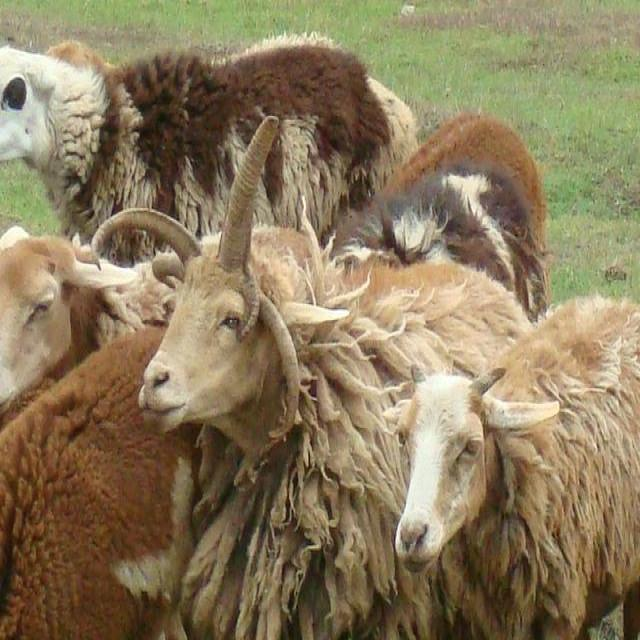Sheep: (92, 114, 534, 634), (385, 294, 639, 634), (0, 39, 427, 240), (0, 322, 200, 638), (324, 108, 550, 319), (0, 224, 184, 433)
